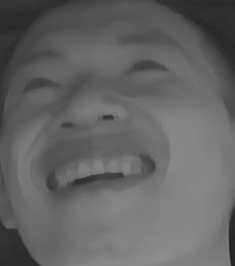eye: (120, 55, 174, 84), (18, 71, 63, 100)
mouth: (35, 144, 154, 202)
